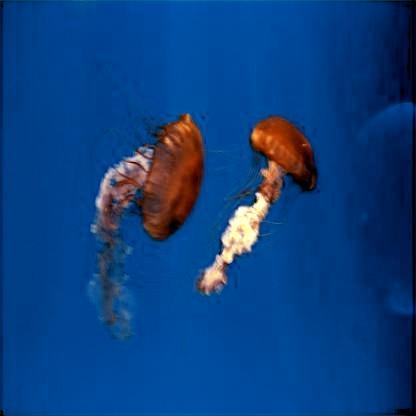Dressed: (78, 113, 196, 344), (201, 113, 315, 299)
